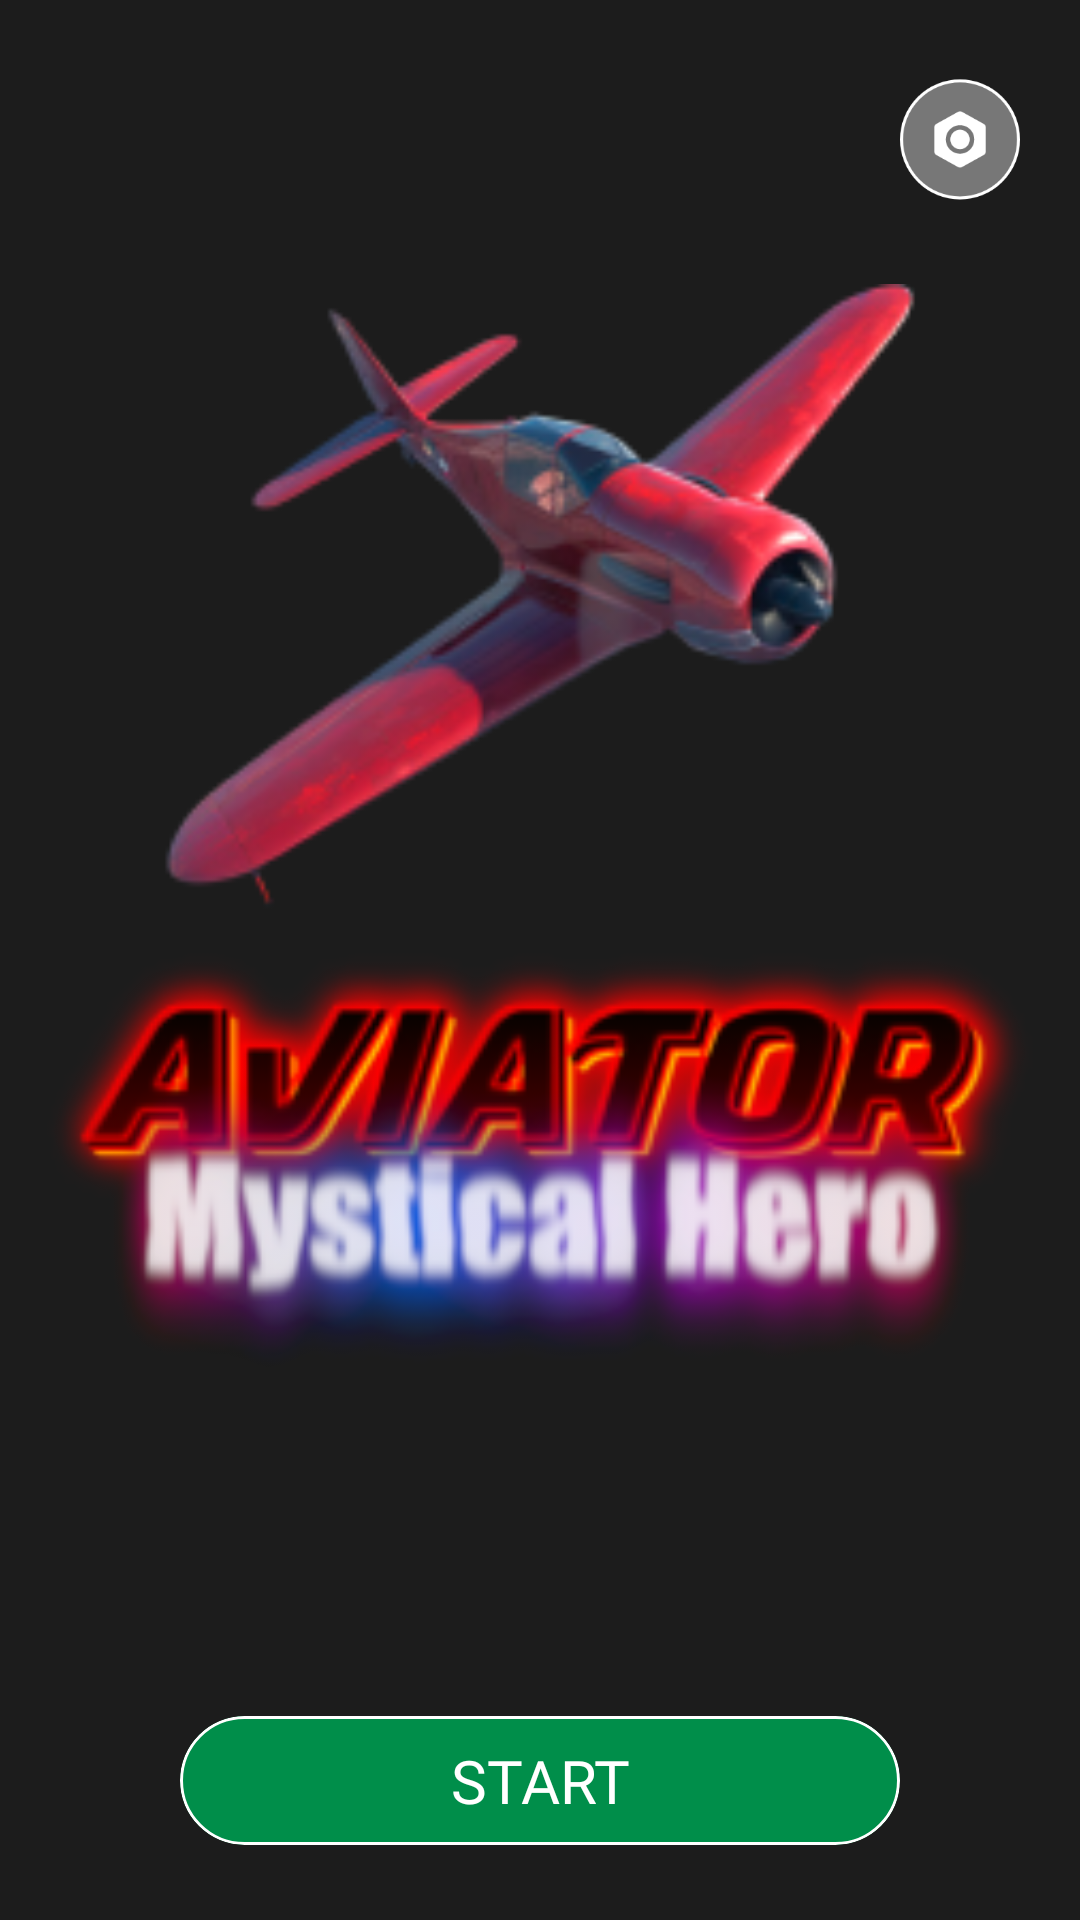

Icons on this 1080x1920 Android screen, each with its box as (x1, y1, x2, y2):
settings: (900, 79, 1020, 200)
